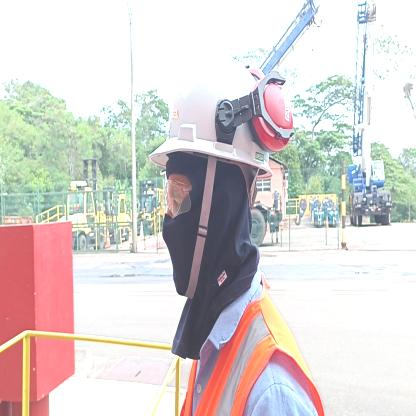Balaclava: (165, 157, 261, 298)
Capacete: (160, 50, 272, 162)
